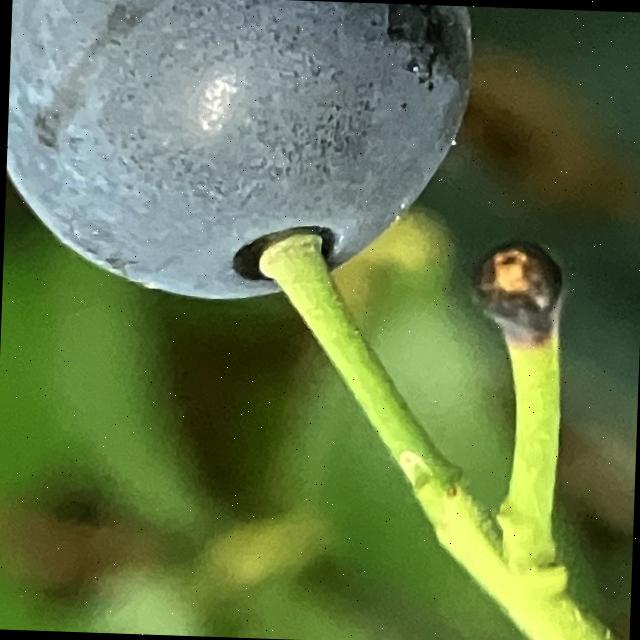Blueberries: (0, 0, 479, 319)
